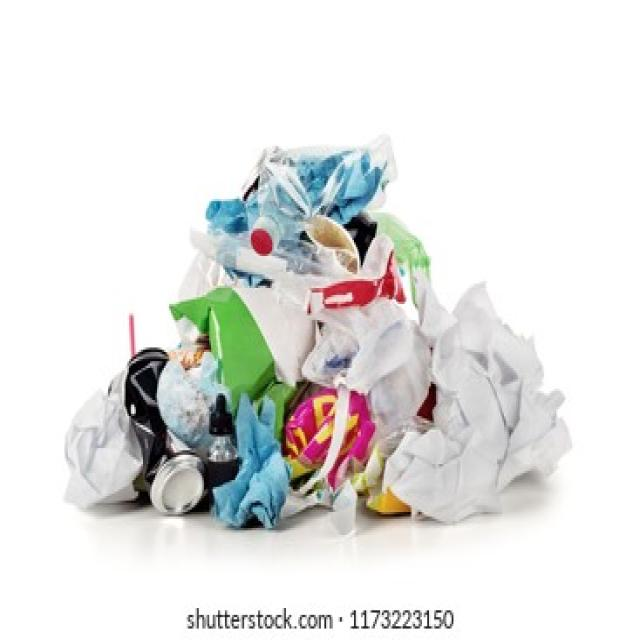trash: (73, 151, 544, 535)
